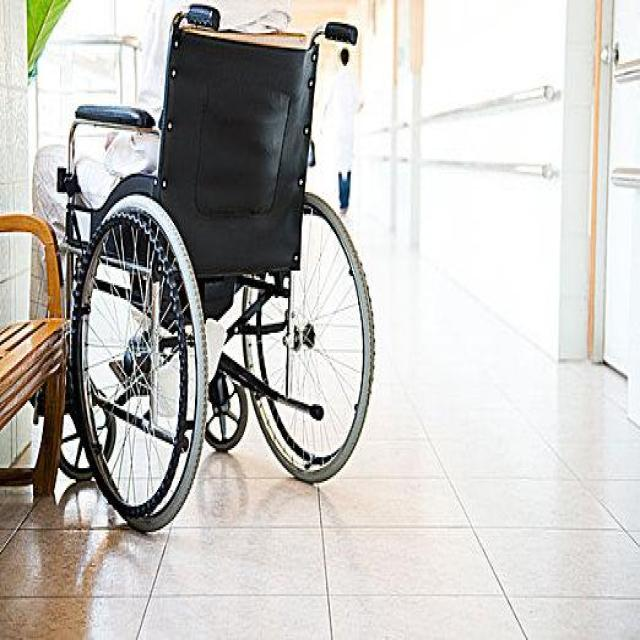wheelchairs: (40, 0, 381, 539)
